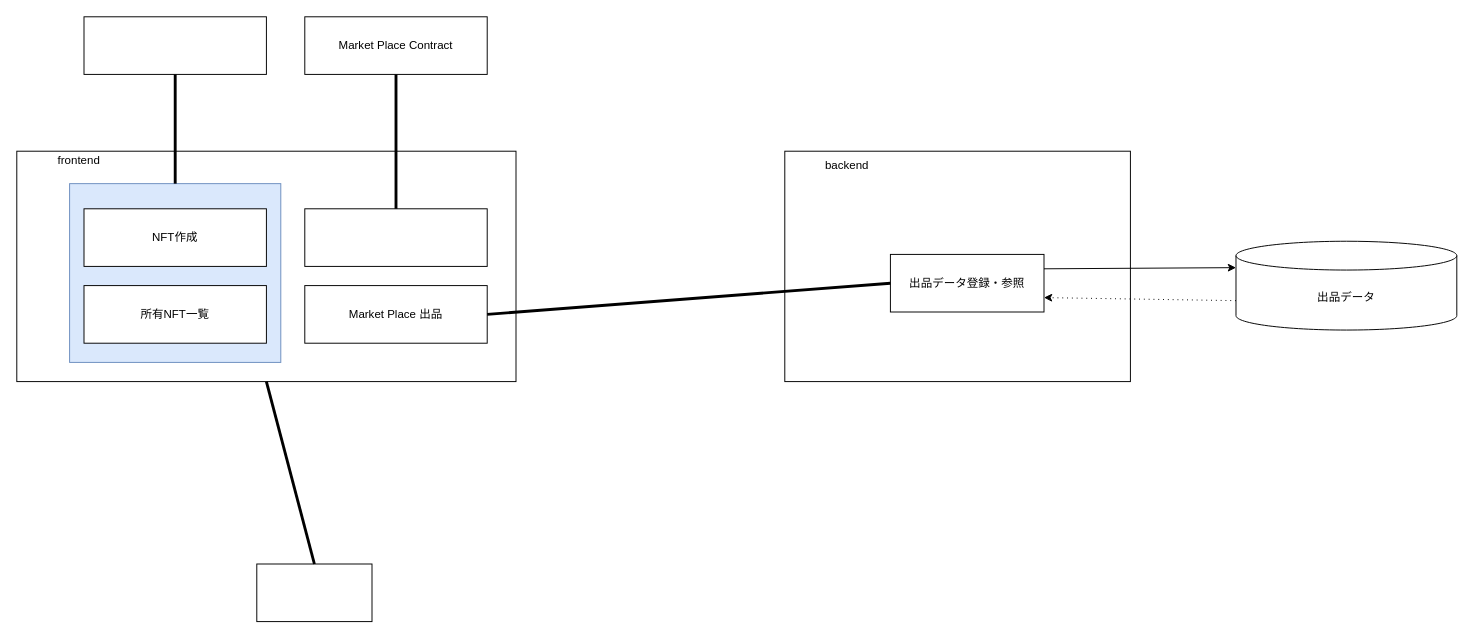
The diagram is 1474 pixels wide and 638 high, and some of its shapes have lost their labels. The centre of each missing label's shape, as x and y in pixels:
"Market Place 購入" belongs at (x=395, y=237).
"NFT Contract (RFC721)" belongs at (x=174, y=45).
"wallet" belongs at (x=314, y=592).
